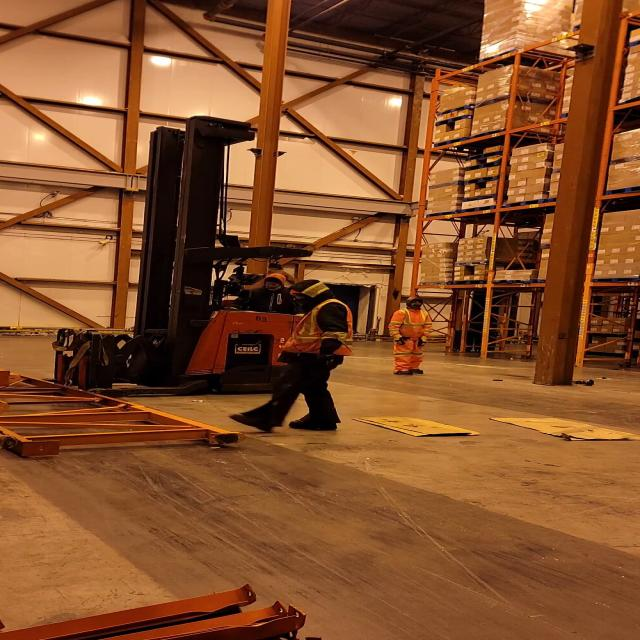forklift: (41, 124, 332, 397)
human: (229, 278, 356, 436), (224, 270, 325, 322), (382, 295, 438, 379)
objectofinterest: (0, 367, 248, 460), (484, 412, 640, 443), (347, 412, 482, 442)
